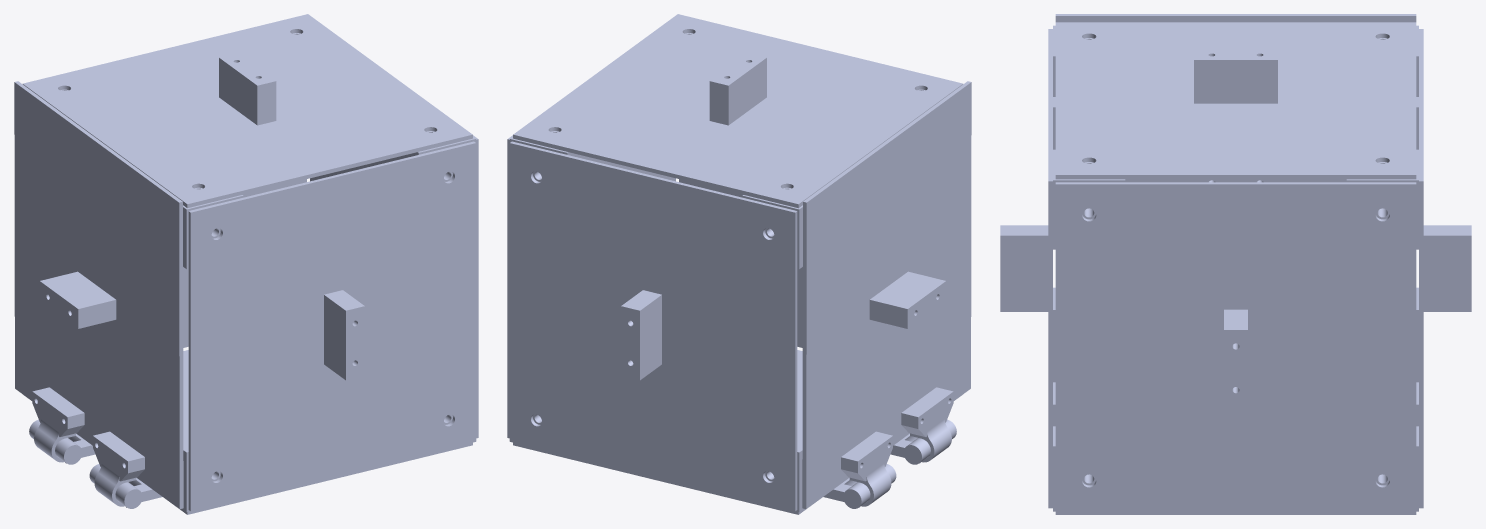
The picture shows the model from 3 angles, left to right: view 1: azimuth 30°, elevation 25°; view 2: azimuth 150°, elevation 25°; view 3: azimuth 270°, elevation 25°; orthographic projection. The views are drawn at different scales.
Visible parts, largest first — view 1: Boss-Extrude1 (×9), Boss-Extrude3 (×2), Cut-Extrude1 (×2), M5 Tapped Hole1 (×2); view 2: Boss-Extrude1 (×9), Boss-Extrude3 (×2), Cut-Extrude1 (×2), M5 Tapped Hole1 (×2); view 3: Boss-Extrude1 (×10), M5 Tapped Hole1 (×2).
Part boxes in pixels (x1,y1,x2,y2): Boss-Extrude1 (×9): (14,14,478,514); Boss-Extrude3 (×2): (32,387,144,506); Cut-Extrude1 (×2): (29,419,162,508); M5 Tapped Hole1 (×2): (182,187,243,512); Boss-Extrude1 (×9): (507,14,971,514); Boss-Extrude3 (×2): (841,387,953,506); Cut-Extrude1 (×2): (823,419,956,508); M5 Tapped Hole1 (×2): (742,187,803,512); Boss-Extrude1 (×10): (1000,14,1471,514); M5 Tapped Hole1 (×2): (1053,149,1418,245).
Size of the model in its own units: 7.76 by 7.72 by 7.72.
